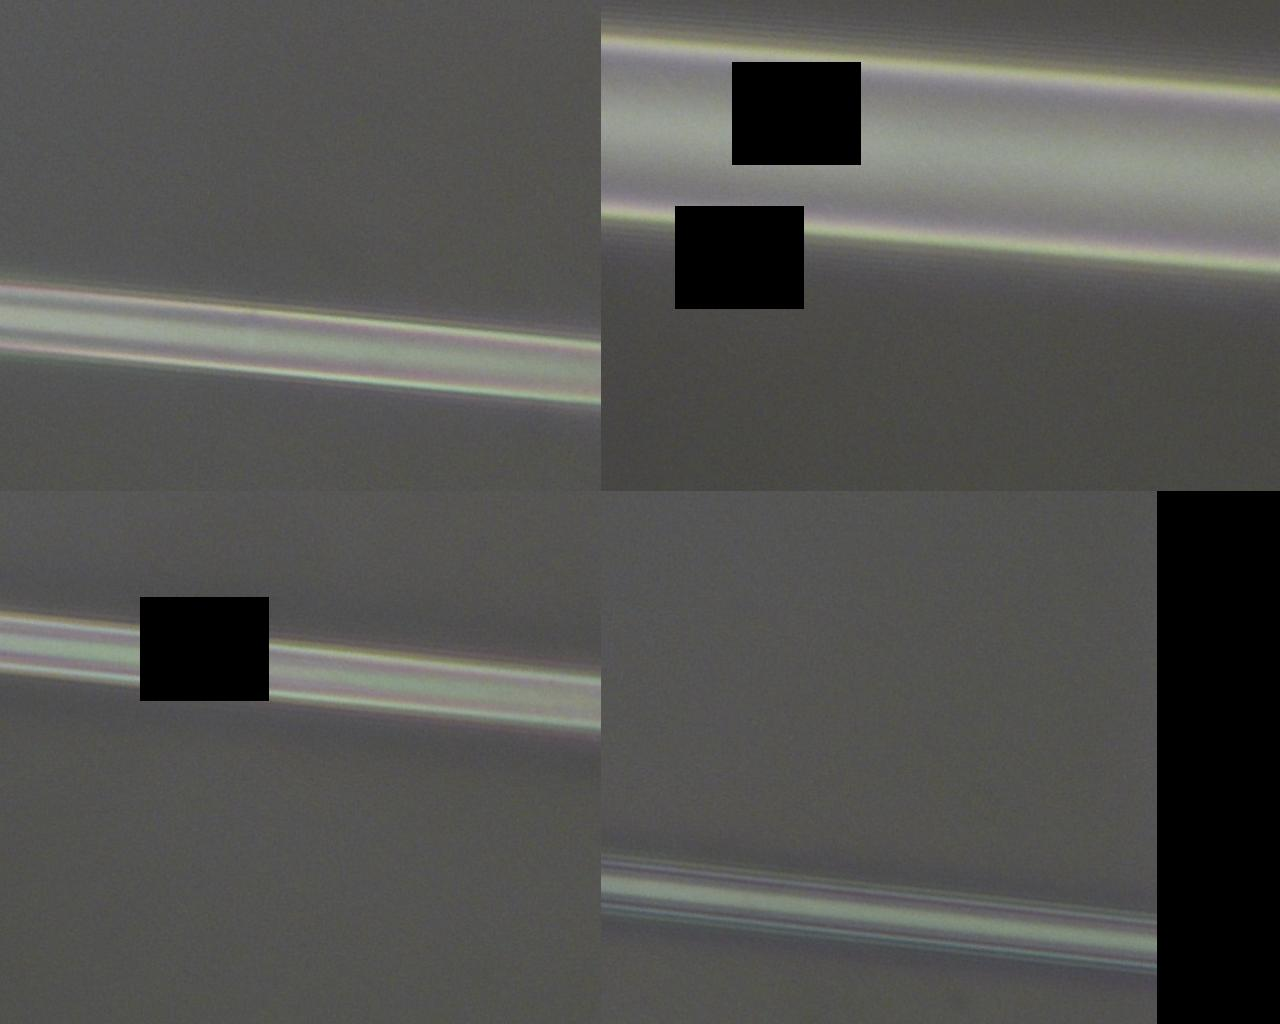fiber: (1023, 0, 1280, 583), (304, 0, 508, 583), (1021, 583, 1280, 1024), (167, 583, 391, 1024)
